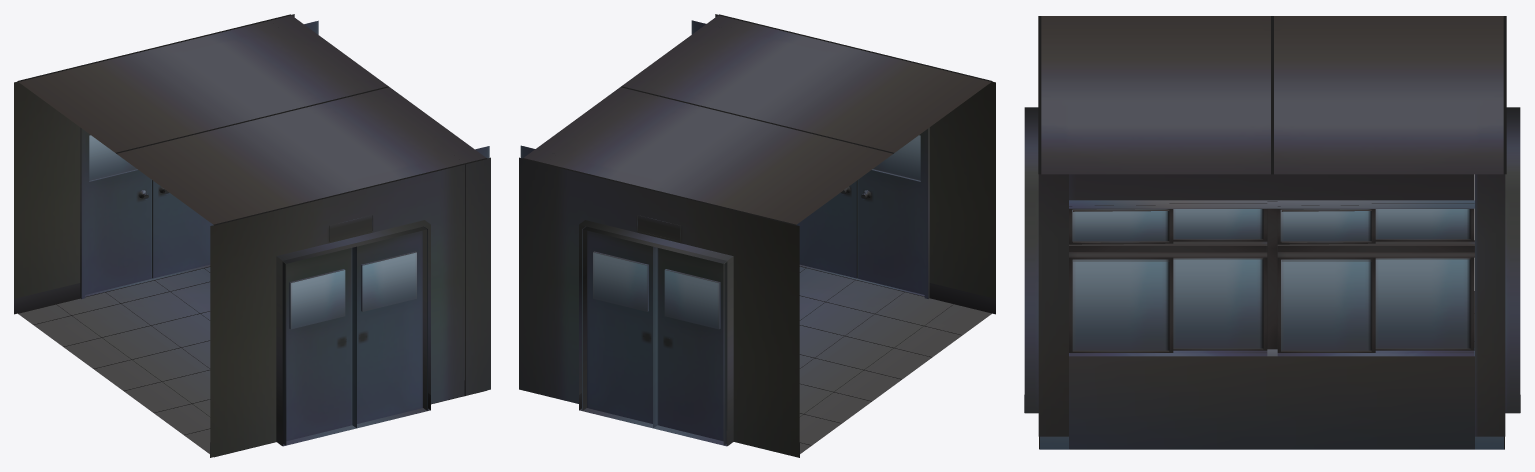
Rendered from JpsStairs_way_night.FBX.
The picture shows the model from 3 angles, left to right: view 1: azimuth 30°, elevation 25°; view 2: azimuth 150°, elevation 25°; view 3: azimuth 270°, elevation 25°; orthographic projection. The views are drawn at different scales.
Parts seen in each view (by area): view 1: Sta_Way_ceiling board_nig, Sta_Way_wall_exitB_nig, Sta_Way_floor_nig, Sta_Way_wall_exitA_nig, Sta_Way_doorL_exitB_nig, Sta_Way_doorR_exitB_nig, Sta_Way_doorL_exitA_nig, Sta_Way_doorR_exitA_nig; view 2: Sta_Way_ceiling board_nig, Sta_Way_wall_exitA_nig, Sta_Way_floor_nig, Sta_Way_wall_exitB_nig, Sta_Way_doorL_exitA_nig, Sta_Way_doorR_exitA_nig, Sta_Way_doorL_exitB_nig, Sta_Way_doorR_exitB_nig; view 3: Sta_Way_wallR_nig, Sta_Way_ceiling board_nig, Sta_Way_wall_exitA_nig, Sta_Way_wall_exitB_nig, Sta_Way_floor_nig.
Part boxes in pixels (box(x1,y1,x2,y2)): Sta_Way_ceiling board_nig: box(17, 14, 487, 225); Sta_Way_wall_exitB_nig: box(210, 157, 490, 457); Sta_Way_floor_nig: box(18, 266, 486, 457); Sta_Way_wall_exitA_nig: box(14, 14, 294, 314); Sta_Way_doorL_exitB_nig: box(282, 246, 356, 445); Sta_Way_doorR_exitB_nig: box(357, 227, 427, 423); Sta_Way_doorL_exitA_nig: box(85, 131, 151, 294); Sta_Way_doorR_exitA_nig: box(152, 180, 213, 278); Sta_Way_ceiling board_nig: box(522, 14, 992, 225); Sta_Way_wall_exitA_nig: box(519, 157, 799, 457); Sta_Way_floor_nig: box(799, 266, 991, 453); Sta_Way_wall_exitB_nig: box(715, 14, 995, 314); Sta_Way_doorL_exitA_nig: box(653, 246, 727, 445); Sta_Way_doorR_exitA_nig: box(582, 227, 652, 423); Sta_Way_doorL_exitB_nig: box(858, 131, 924, 294); Sta_Way_doorR_exitB_nig: box(796, 180, 857, 278); Sta_Way_wallR_nig: box(1038, 174, 1505, 448); Sta_Way_ceiling board_nig: box(1038, 16, 1506, 174); Sta_Way_wall_exitA_nig: box(1505, 107, 1520, 413); Sta_Way_wall_exitB_nig: box(1024, 107, 1038, 413); Sta_Way_floor_nig: box(1039, 291, 1504, 449).
Bounding box in the file's own units: 395 × 300 × 490.
